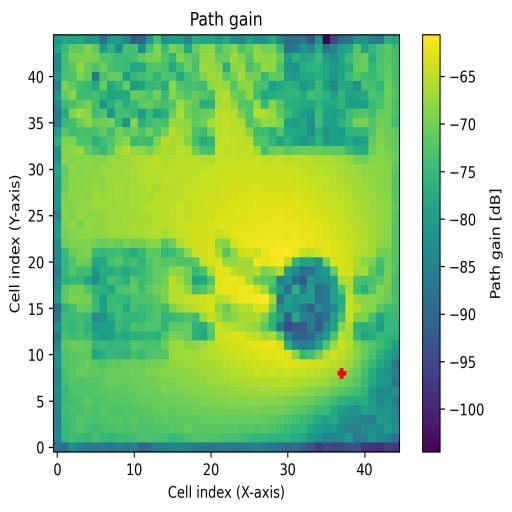Concrete: (261, 43, 369, 154)
Glass: (92, 44, 214, 156)
Metal: (277, 257, 345, 359)
Wood: (92, 248, 169, 359)
